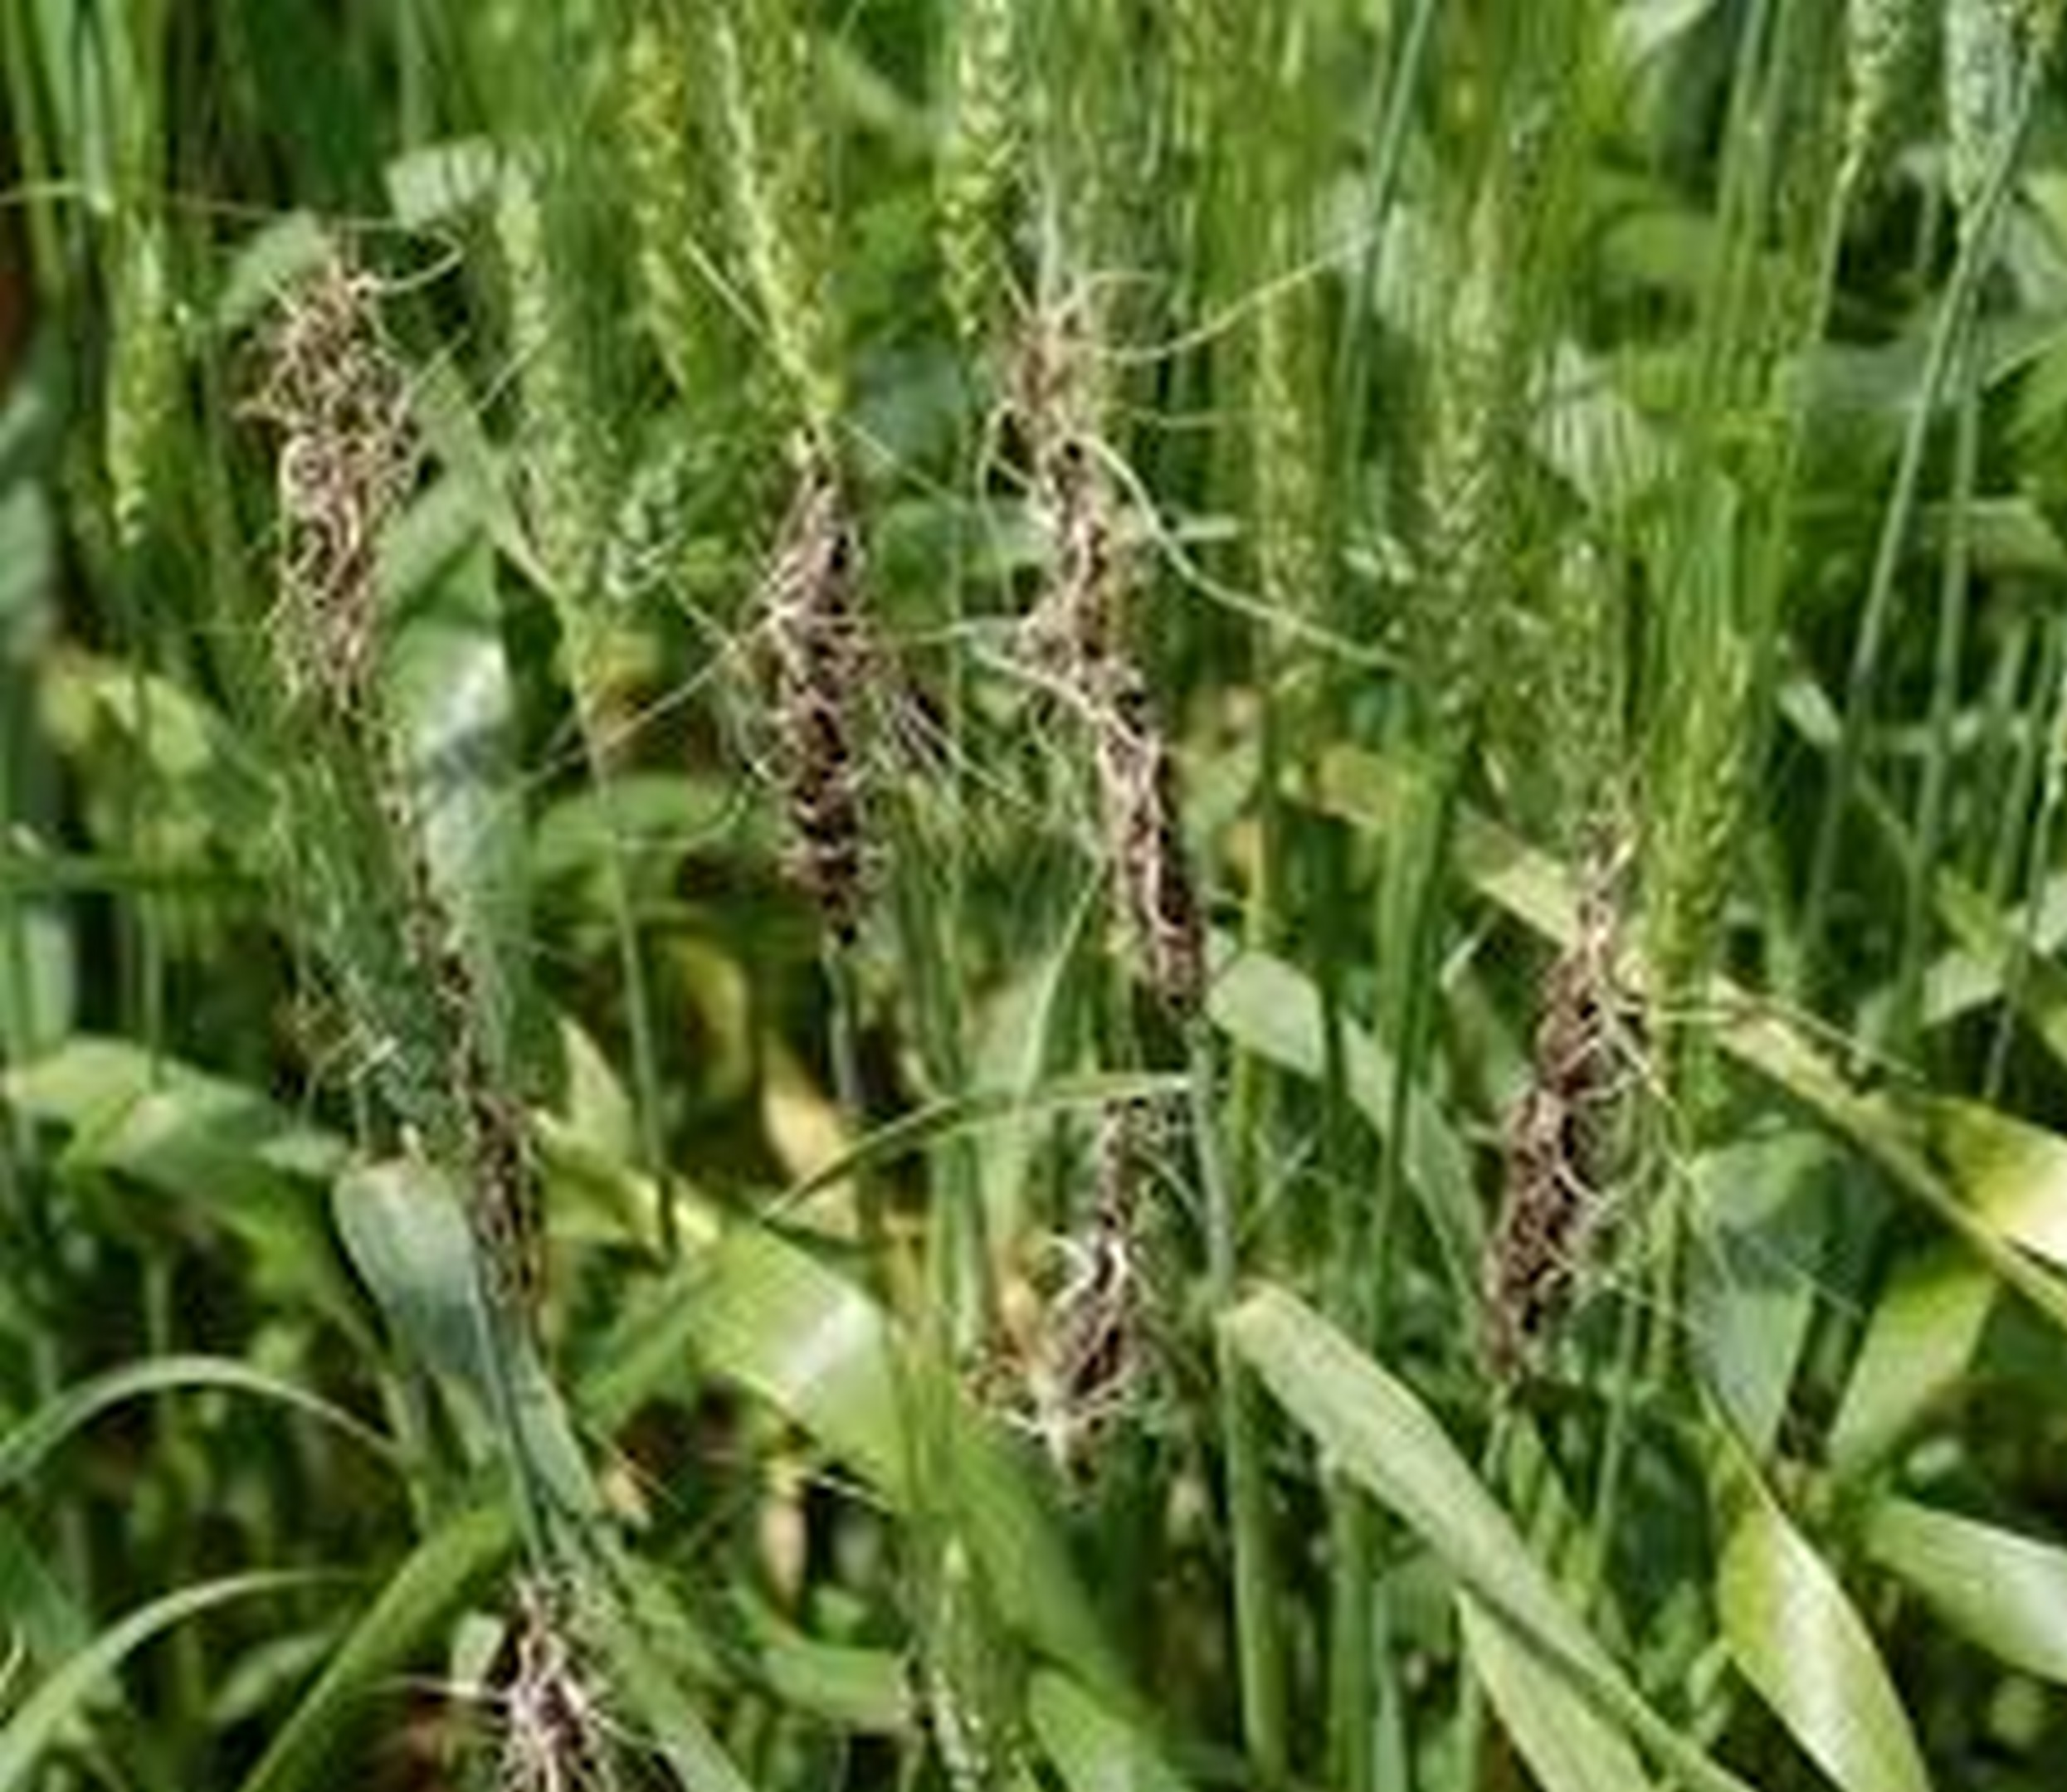Wheat Loose Smut: (714, 385, 1295, 1038)
